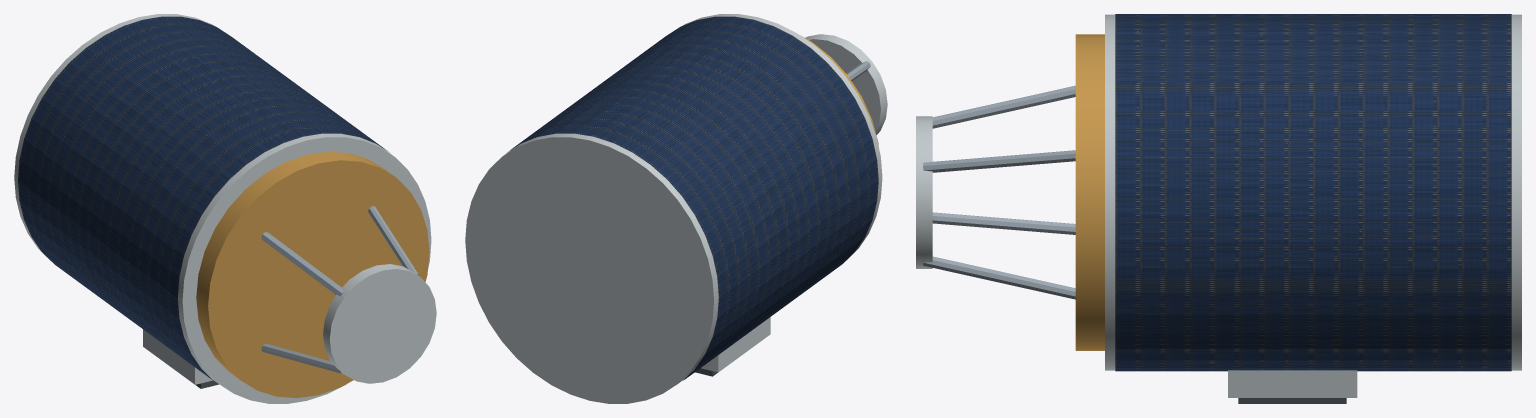
The picture shows the model from 3 angles, left to right: view 1: azimuth 30°, elevation 25°; view 2: azimuth 150°, elevation 25°; view 3: azimuth 270°, elevation 25°; orthographic projection. The views are drawn at different scales.
Parts seen in each view (by area): view 1: Body-mounted solar cells, Despun equipment deck, Solar drum core, Antenna tower platform, Antenna tower leg (×3), Radiometer window surround; view 2: Body-mounted solar cells, Solar drum core, Antenna tower platform, Radiometer window surround; view 3: Body-mounted solar cells, Despun equipment deck, Solar drum core, Antenna tower leg (×4), Radiometer window surround, Antenna tower platform, Radiometer viewing port.
Boxes of the visible parts, x1=… form: Body-mounted solar cells: x1=18, y1=16, x2=388, y2=380; Despun equipment deck: x1=196, y1=151, x2=429, y2=397; Solar drum core: x1=14, y1=14, x2=431, y2=403; Antenna tower platform: x1=323, y1=264, x2=436, y2=383; Antenna tower leg (×3): x1=261, y1=206, x2=418, y2=373; Radiometer window surround: x1=143, y1=329, x2=213, y2=384; Body-mounted solar cells: x1=508, y1=16, x2=878, y2=380; Solar drum core: x1=465, y1=14, x2=882, y2=403; Antenna tower platform: x1=805, y1=34, x2=887, y2=134; Radiometer window surround: x1=701, y1=317, x2=770, y2=372; Body-mounted solar cells: x1=1115, y1=14, x2=1511, y2=371; Despun equipment deck: x1=1075, y1=34, x2=1104, y2=350; Solar drum core: x1=1105, y1=14, x2=1521, y2=370; Antenna tower leg (×4): x1=923, y1=85, x2=1075, y2=299; Radiometer window surround: x1=1228, y1=370, x2=1357, y2=397; Antenna tower platform: x1=916, y1=116, x2=932, y2=268; Radiometer viewing port: x1=1238, y1=398, x2=1346, y2=403.
Bounding box in the file's own units: 2.11 × 2.22 × 3.57.
Materials: 5 (1 with a texture image).
